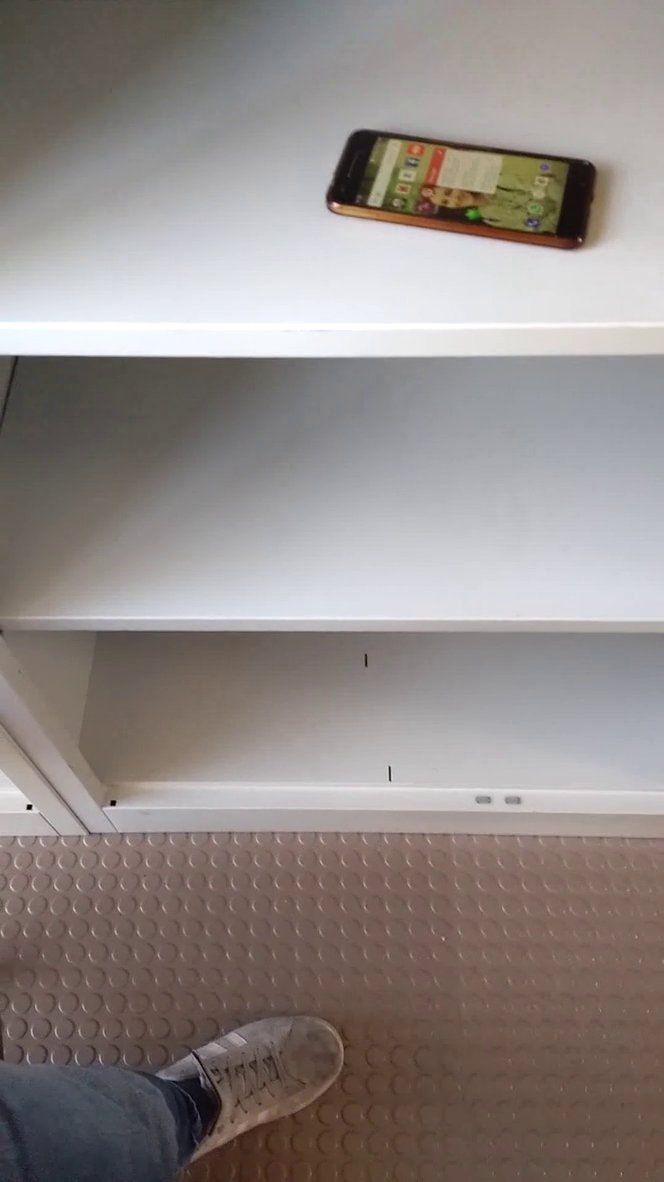phone: (304, 116, 612, 262)
